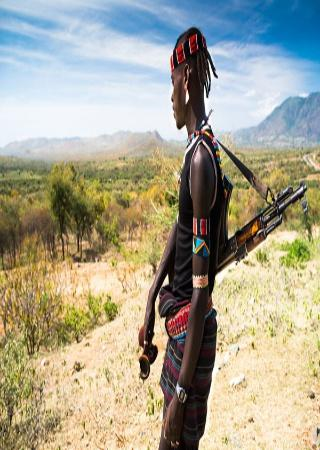criminal: (139, 27, 307, 450)
weapon: (217, 185, 307, 272)
